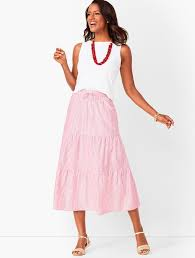C_skirt: (39, 90, 152, 218)
C_tank top: (67, 44, 132, 93)
